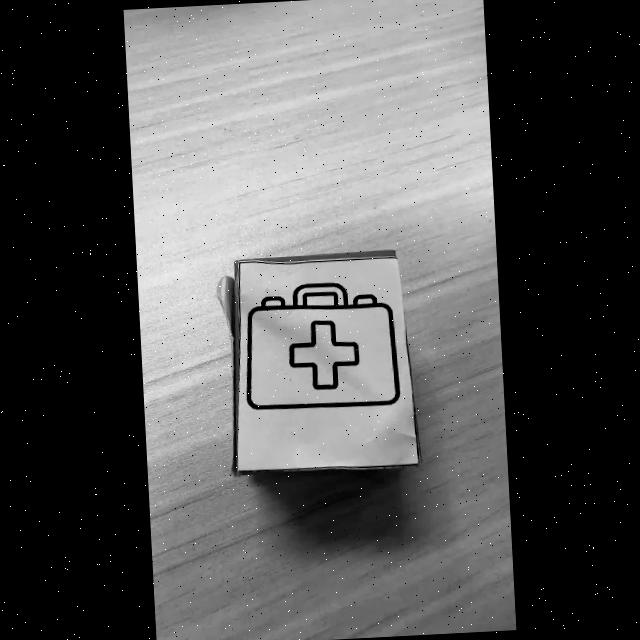Medkit: (247, 283, 400, 409)
